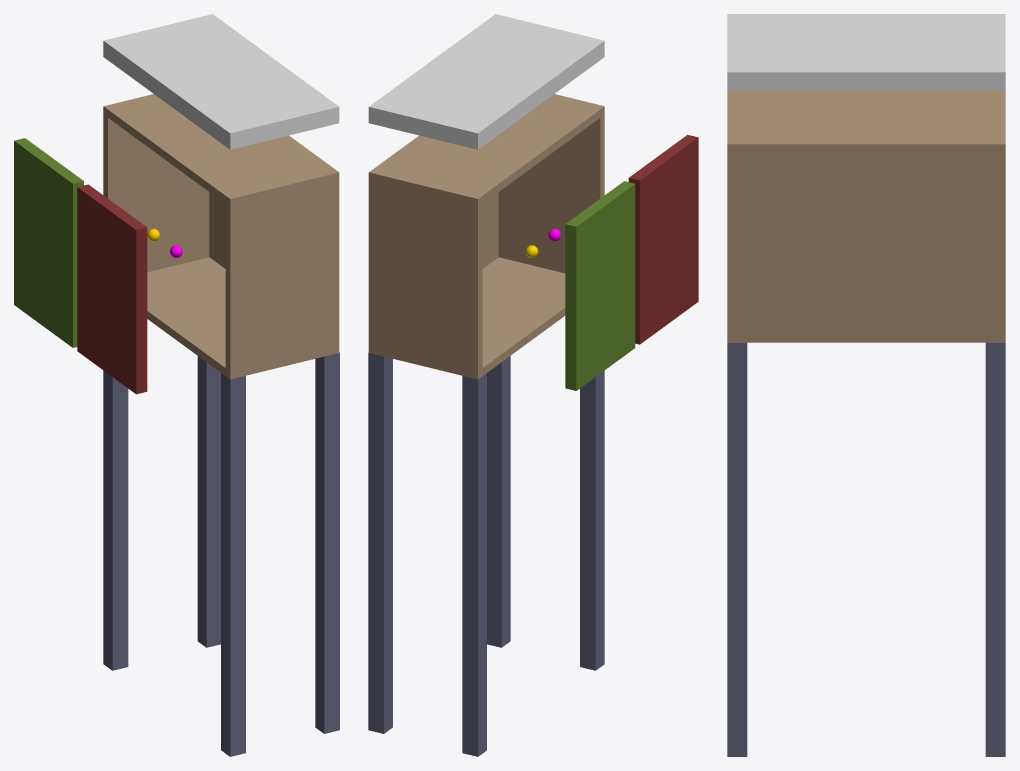
The model's file is furniture_bookshelf1.fbx.
The picture shows the model from 3 angles, left to right: view 1: azimuth 30°, elevation 25°; view 2: azimuth 150°, elevation 25°; view 3: azimuth 270°, elevation 25°; orthographic projection. The views are drawn at different scales.
Visible parts, largest first — view 1: Marble_XO Mesh (1), black 1 Mesh (1), white Mesh (1), Material #197 Mesh (1), Material #2142144597 Mesh (1); view 2: Marble_XO Mesh (1), black 1 Mesh (1), white Mesh (1), Material #2142144597 Mesh (1), Material #197 Mesh (1); view 3: Marble_XO Mesh (1), white Mesh (1), black 1 Mesh (1).
Part boxes in pixels (left/top/right/bottom): Marble_XO Mesh (1): left=103, top=94, right=339, bottom=379; black 1 Mesh (1): left=103, top=352, right=339, bottom=756; white Mesh (1): left=103, top=14, right=339, bottom=149; Material #197 Mesh (1): left=77, top=184, right=147, bottom=394; Material #2142144597 Mesh (1): left=14, top=138, right=83, bottom=347; Marble_XO Mesh (1): left=368, top=94, right=604, bottom=379; black 1 Mesh (1): left=368, top=353, right=604, bottom=756; white Mesh (1): left=368, top=14, right=604, bottom=149; Material #2142144597 Mesh (1): left=565, top=181, right=635, bottom=390; Material #197 Mesh (1): left=628, top=134, right=698, bottom=344; Marble_XO Mesh (1): left=727, top=90, right=1005, bottom=342; white Mesh (1): left=727, top=14, right=1005, bottom=90; black 1 Mesh (1): left=727, top=342, right=1005, bottom=756.
Size of the model in its own units: 3.25 by 9.5 by 3.5.
